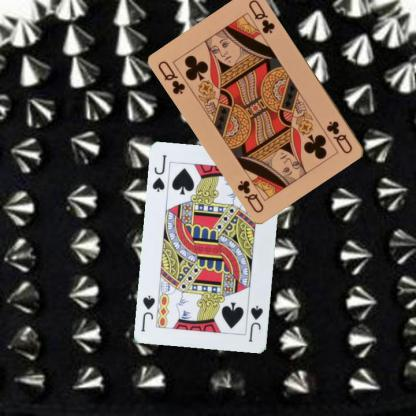Js: (150, 152, 168, 194), (246, 303, 264, 344)
Qc: (155, 58, 188, 96), (324, 118, 354, 156)
